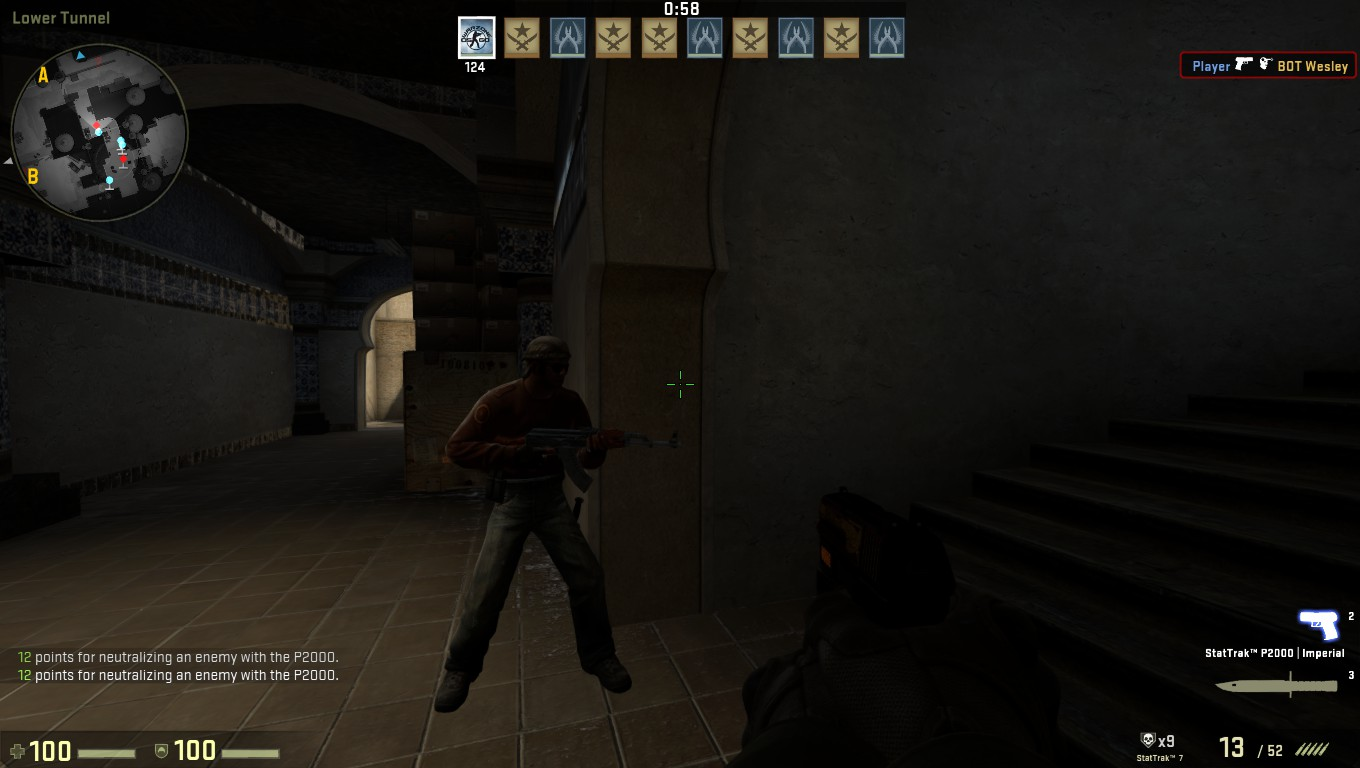t: (441, 332, 632, 706)
th: (507, 334, 589, 397)
